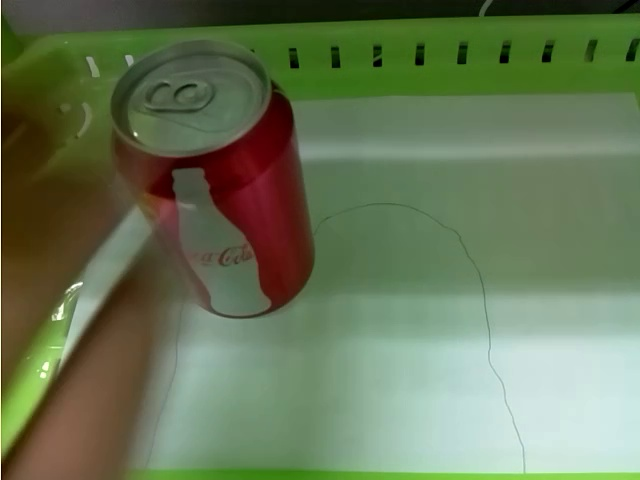cocacola: (116, 48, 319, 322)
hand: (1, 85, 148, 474)
